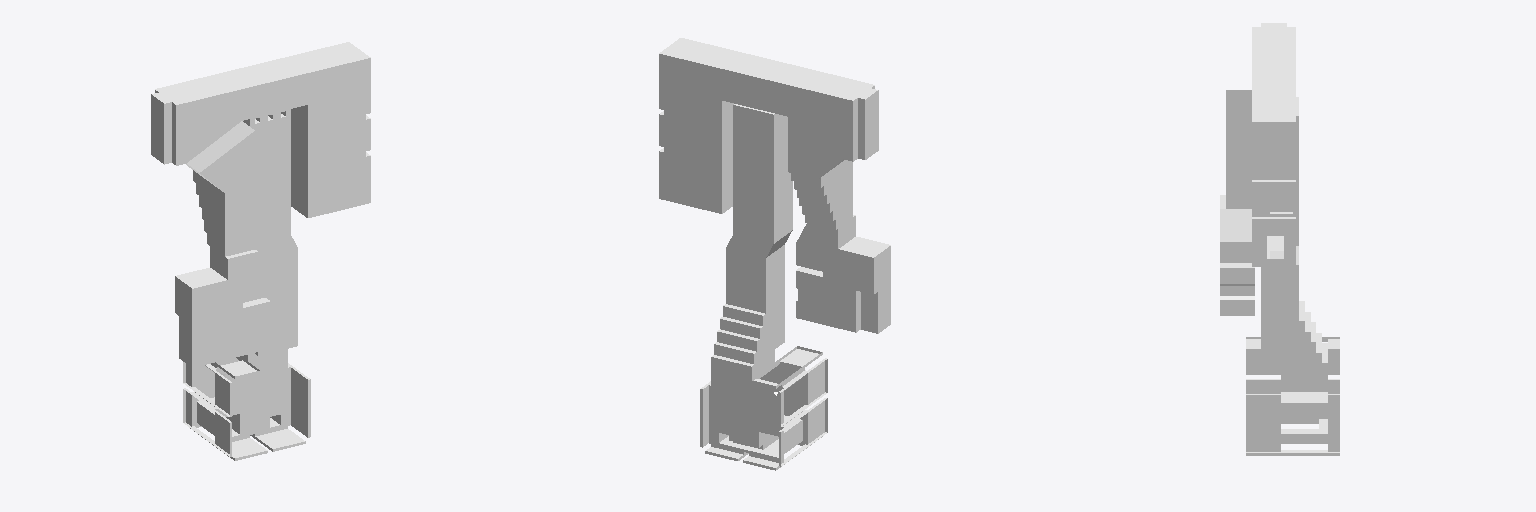
The model's file is map01_sect04.obj.
3 renders of one model, left to right at view 1: azimuth 30°, elevation 25°; view 2: azimuth 150°, elevation 25°; view 3: azimuth 270°, elevation 25°, orthographic.
Parts seen in each view (by area): view 1: F_DECK, BRKGRY01, SUPGRY02, F_BRKTOP, WALTEK04, F_CAVE01; view 2: F_BASHXL, BRKGRY01, F_BRKTOP, F_CONCRP, F_DECK, SUPGRY02, WALTEK04, F_TKSCRN, IRON05, F_GDCONC; view 3: BRKGRY01, WALTEK04, SUPGRY02, SWLITE01, IRON05.
Boxes of the visible parts, box(x1,y1,x2,y2) form: F_DECK: box(176, 58, 370, 441); BRKGRY01: box(151, 42, 370, 457); SUPGRY02: box(183, 111, 285, 460); F_BRKTOP: box(192, 358, 238, 427); WALTEK04: box(197, 397, 239, 436); F_CAVE01: box(230, 371, 310, 460); F_BASHXL: box(659, 54, 873, 332); BRKGRY01: box(659, 38, 890, 467); F_BRKTOP: box(709, 357, 783, 462); F_CONCRP: box(714, 98, 864, 363); F_DECK: box(760, 362, 807, 445); SUPGRY02: box(738, 352, 826, 469); WALTEK04: box(759, 415, 802, 457); F_TKSCRN: box(733, 292, 877, 449); IRON05: box(712, 304, 764, 366); F_GDCONC: box(700, 380, 780, 470); BRKGRY01: box(1220, 23, 1339, 451); WALTEK04: box(1281, 395, 1327, 423); SUPGRY02: box(1246, 337, 1339, 455); SWLITE01: box(1220, 286, 1327, 433); IRON05: box(1299, 301, 1327, 362).
Bounding box in the file's own units: 1280 × 2224 × 656.